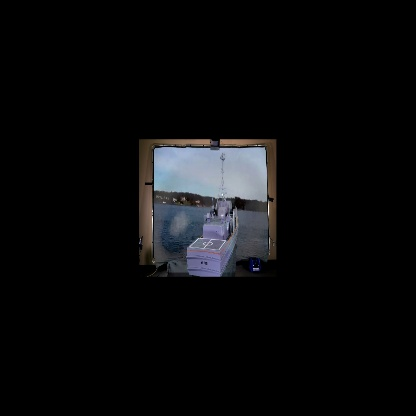YP689: (185, 153, 240, 276)
